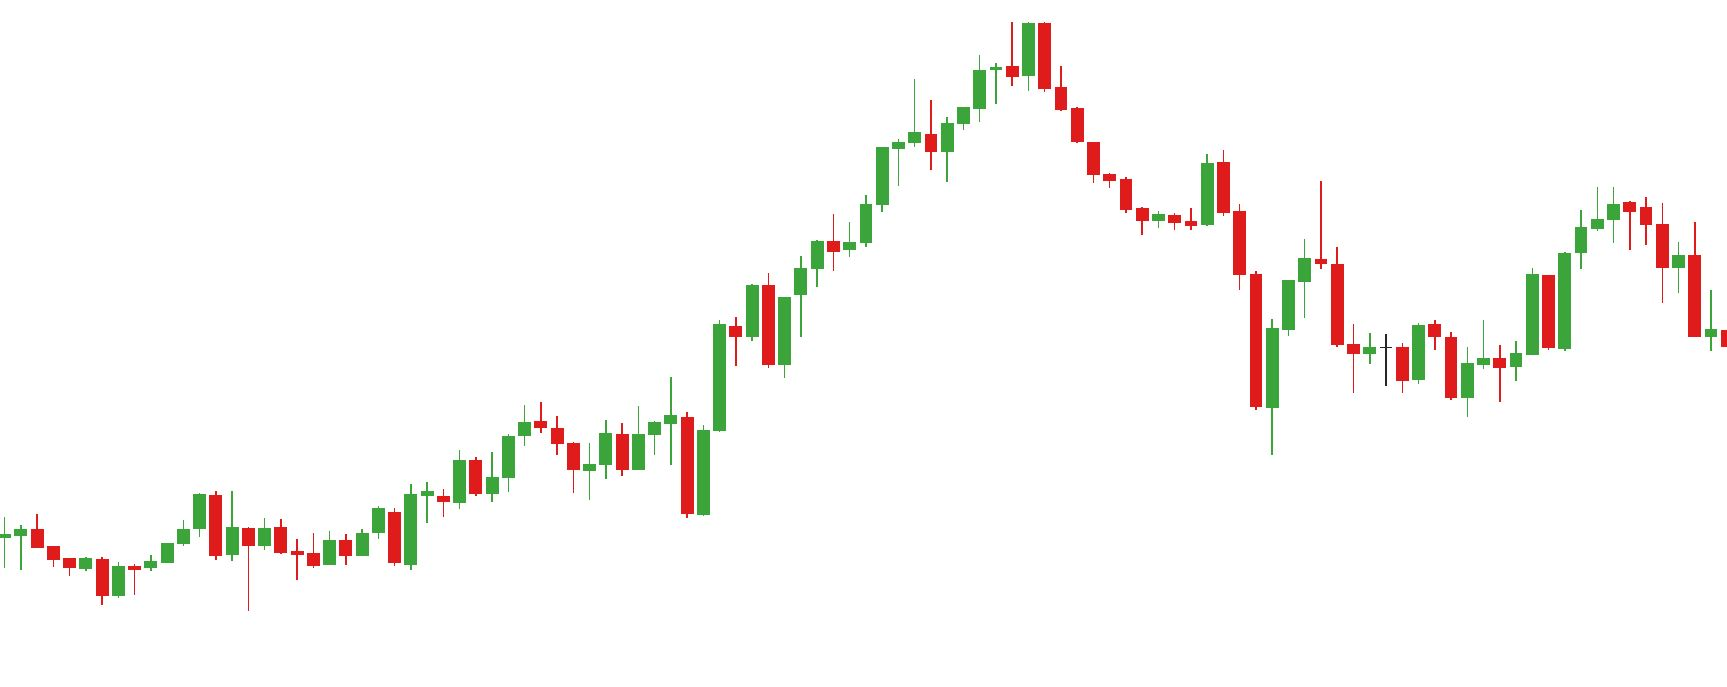buy: (567, 432, 712, 520)
